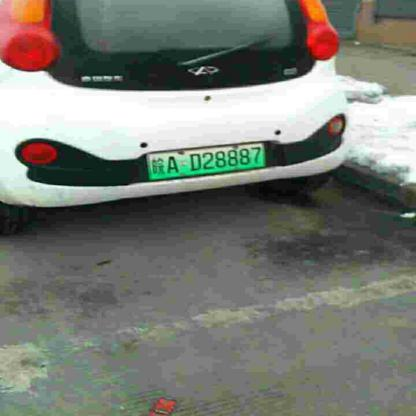lp: (147, 142, 266, 180)
